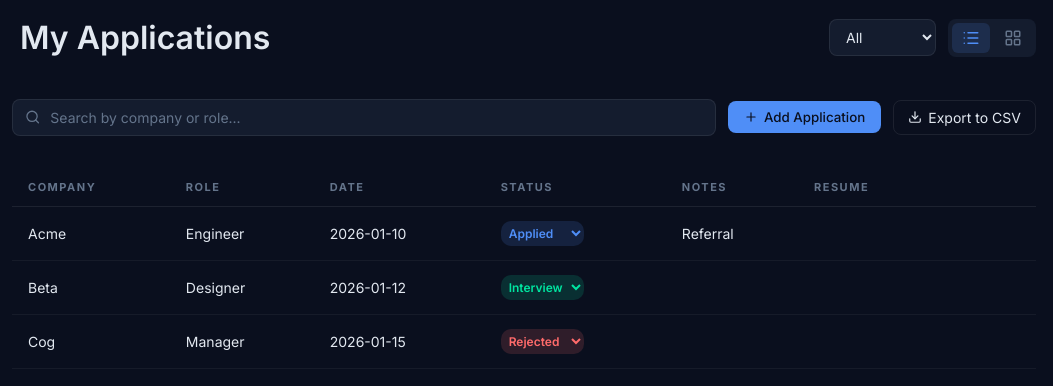
it: Applied — list with data › filters by status dropdown
Select "Interview" in the dropdown named "Filter applications by status" at (882, 38), box [829,19,936,56]
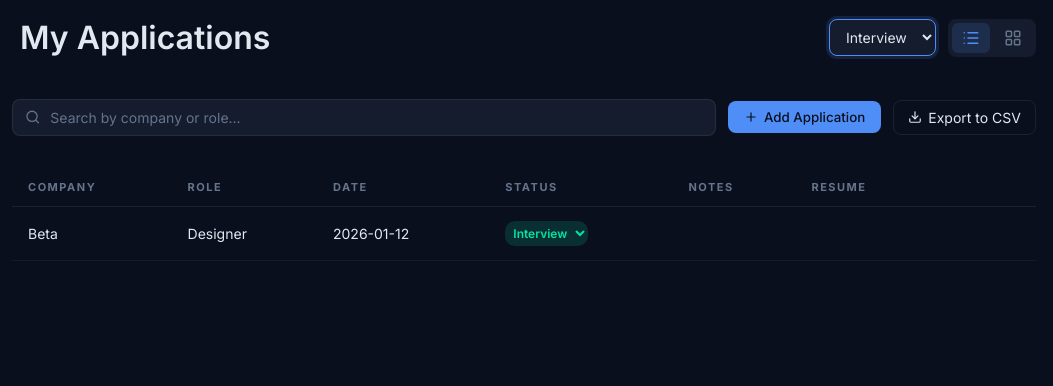
Expected: the text "Beta" is shown, [12,206,172,260]
Expected: the text "Acme" is gone
